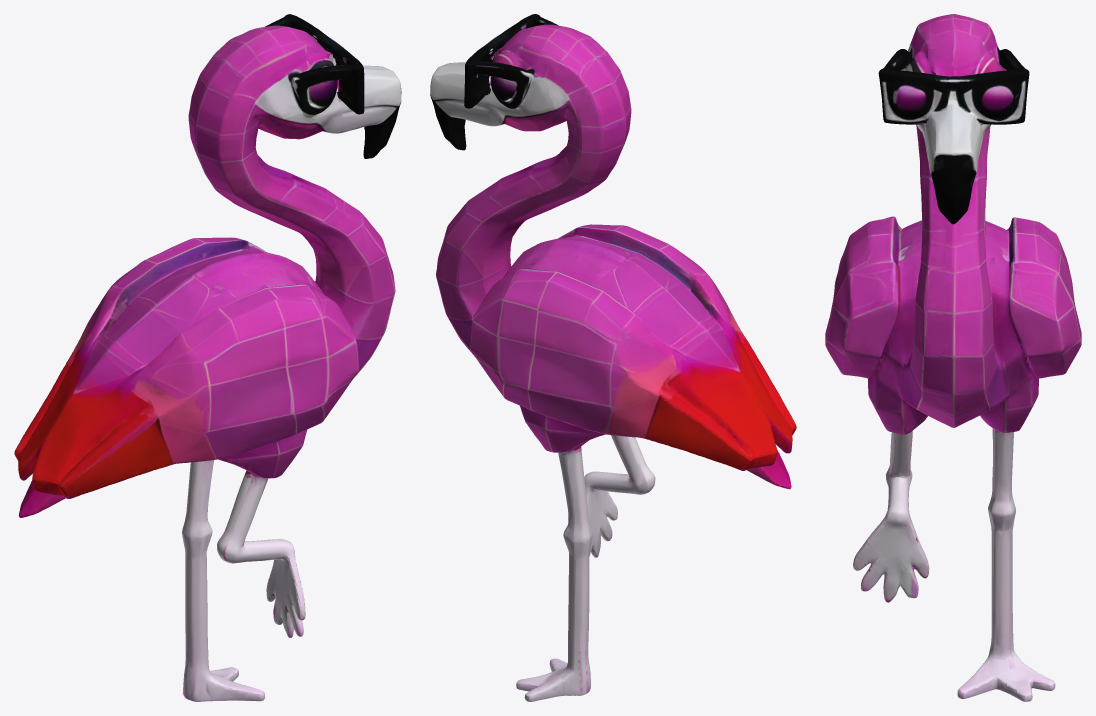
Rendered from flamingo.glb.
The picture shows the model from 3 angles, left to right: view 1: azimuth 30°, elevation 25°; view 2: azimuth 150°, elevation 25°; view 3: azimuth 270°, elevation 25°; orthographic projection. The views are drawn at different scales.
Visible parts, largest first — view 1: 1_output_1754059958800775_QMnfcREXH; view 2: 1_output_1754059958800775_QMnfcREXH; view 3: 1_output_1754059958800775_QMnfcREXH.
Boxes of the visible parts, <box> form: 1_output_1754059958800775_QMnfcREXH: <box>14,14,401,701</box>; 1_output_1754059958800775_QMnfcREXH: <box>430,14,796,701</box>; 1_output_1754059958800775_QMnfcREXH: <box>825,14,1081,701</box>.
Bounding box in the file's own units: 1.17 × 1.99 × 0.6796.
Materials: 1 (1 with a texture image).
